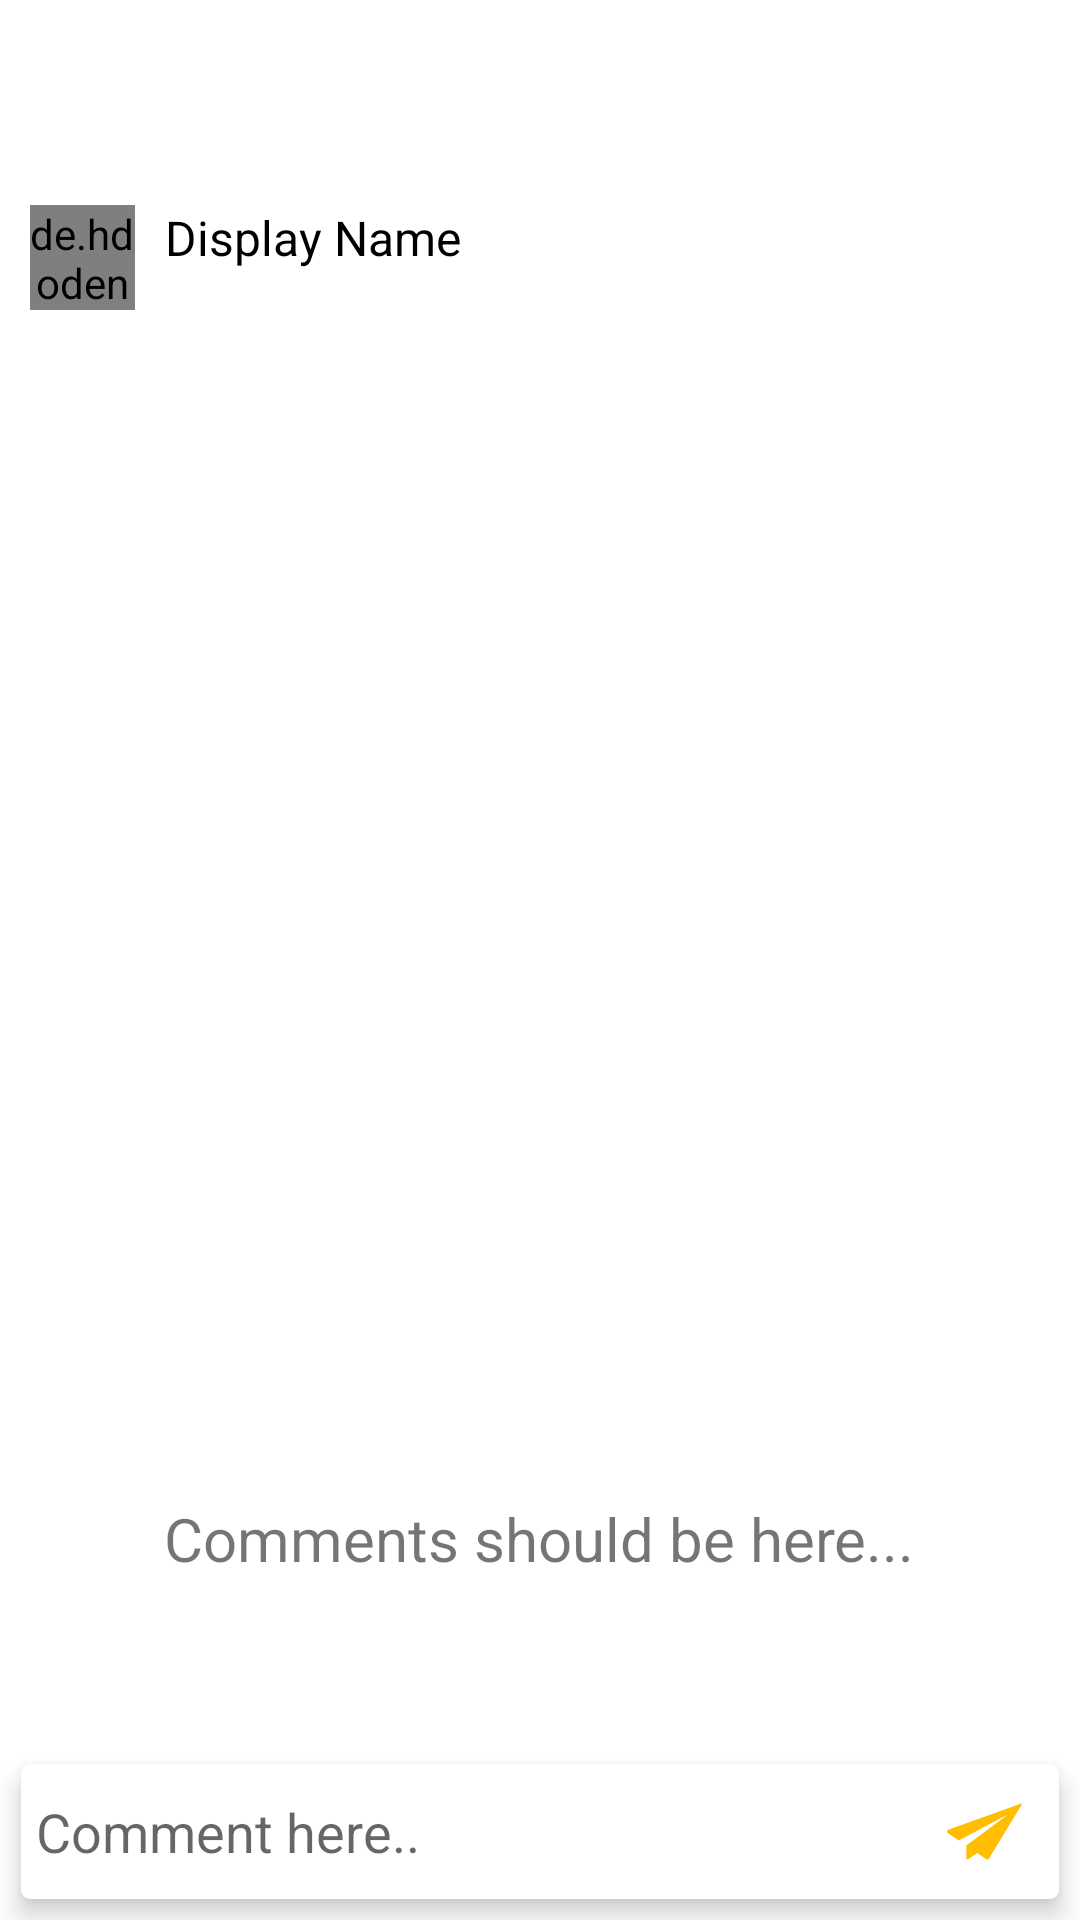

Named icons in this screenshot (1080 x 1920) and their centers, point (x, y):
paper plane: point (984, 1831)
